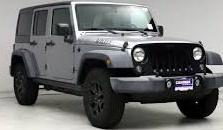SUV: (12, 3, 223, 129)
